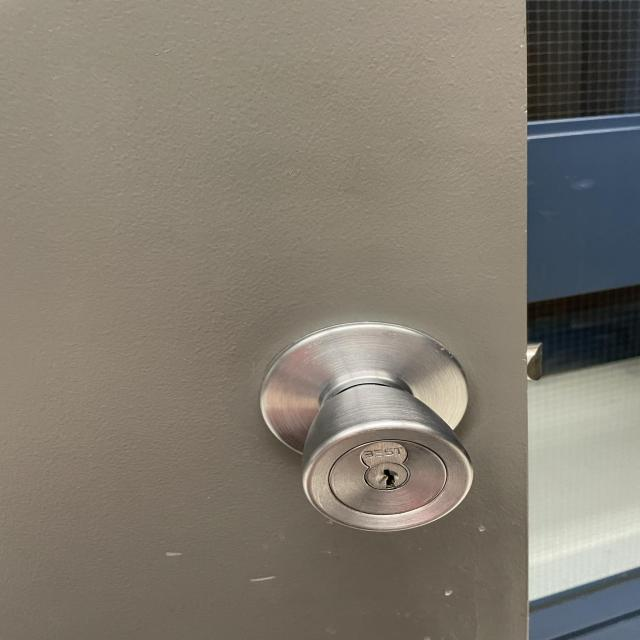door-knob: (260, 322, 473, 531)
